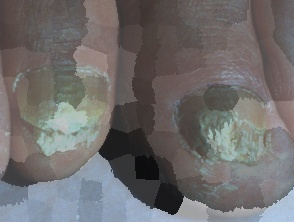Nail_psoriasis: (5, 55, 121, 166), (167, 73, 286, 180)
